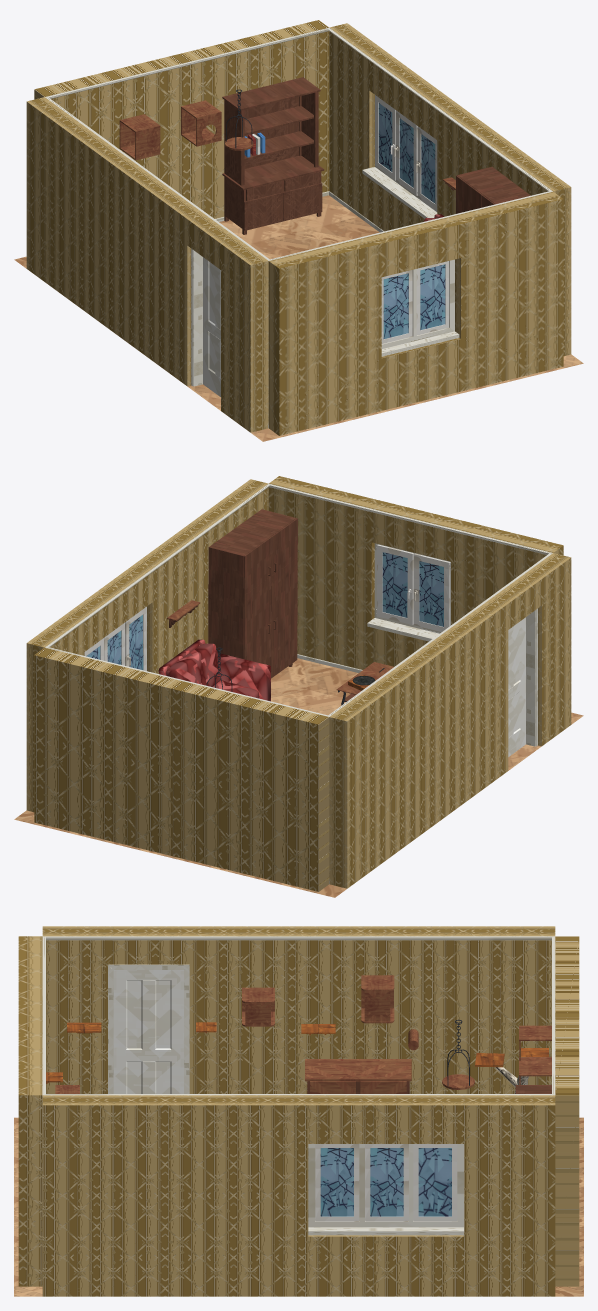
The model's file is house.glb.
The picture shows the model from 3 angles, top to bottom: view 1: azimuth 30°, elevation 25°; view 2: azimuth 150°, elevation 25°; view 3: azimuth 270°, elevation 25°; orthographic projection. The views are drawn at different scales.
Visible parts, largest first — view 1: wall 4, wall 1, wall 3, wall 2, floor, Cube.013, door, window.005, wardrobe a, window.004, wall box a, frame (+19 smaller); view 2: wall 3, wall 1, wall 4, wall 2, wardrobe a, floor, window.004, window.005, door, sofa, frame, pillow2 (+8 smaller); view 3: wall 2, wall 1, door, wall 4, wall 3, window, window.002, window.001, window 3x, ceilrim, Cube.036, floor (+10 smaller).
Part boxes in pixels (left/top/right/bottom): wall 4: left=268, top=191, right=563, bottom=435; wall 1: left=26, top=97, right=268, bottom=432; wall 3: left=34, top=20, right=329, bottom=218; wall 2: left=329, top=23, right=571, bottom=356; floor: left=14, top=195, right=583, bottom=441; Cube.013: left=244, top=183, right=322, bottom=230; door: left=203, top=257, right=220, bottom=396; window.005: left=416, top=261, right=449, bottom=335; wardrobe a: left=456, top=166, right=530, bottom=213; window.004: left=381, top=270, right=412, bottom=343; wall box a: left=119, top=114, right=160, bottom=160; frame: left=191, top=249, right=202, bottom=386; wall 3: left=34, top=647, right=329, bottom=891; wall 1: left=329, top=553, right=571, bottom=888; wall 4: left=268, top=476, right=563, bottom=669; wall 2: left=26, top=479, right=268, bottom=812; wardrobe a: left=208, top=509, right=297, bottom=678; floor: left=14, top=658, right=583, bottom=897; window.004: left=413, top=553, right=450, bottom=631; window.005: left=376, top=544, right=413, bottom=624; door: left=508, top=617, right=525, bottom=756; sofa: left=158, top=639, right=270, bottom=701; frame: left=526, top=608, right=537, bottom=746; pillow2: left=166, top=643, right=221, bottom=686; wall 2: left=42, top=1095, right=555, bottom=1296; wall 1: left=42, top=926, right=555, bottom=1093; door: left=113, top=970, right=183, bottom=1093; wall 4: left=18, top=936, right=42, bottom=1286; wall 3: left=555, top=936, right=579, bottom=1286; window: left=413, top=1144, right=457, bottom=1221; window.002: left=315, top=1144, right=359, bottom=1221; window.001: left=365, top=1144, right=408, bottom=1221; window 3x: left=308, top=1144, right=463, bottom=1227; ceilrim: left=44, top=936, right=551, bottom=940; Cube.036: left=305, top=1059, right=411, bottom=1081; floor: left=14, top=1117, right=583, bottom=1296.
Size of the model in its own units: 4.96 by 2.48 by 6.67.
25 materials, 25 textured.
